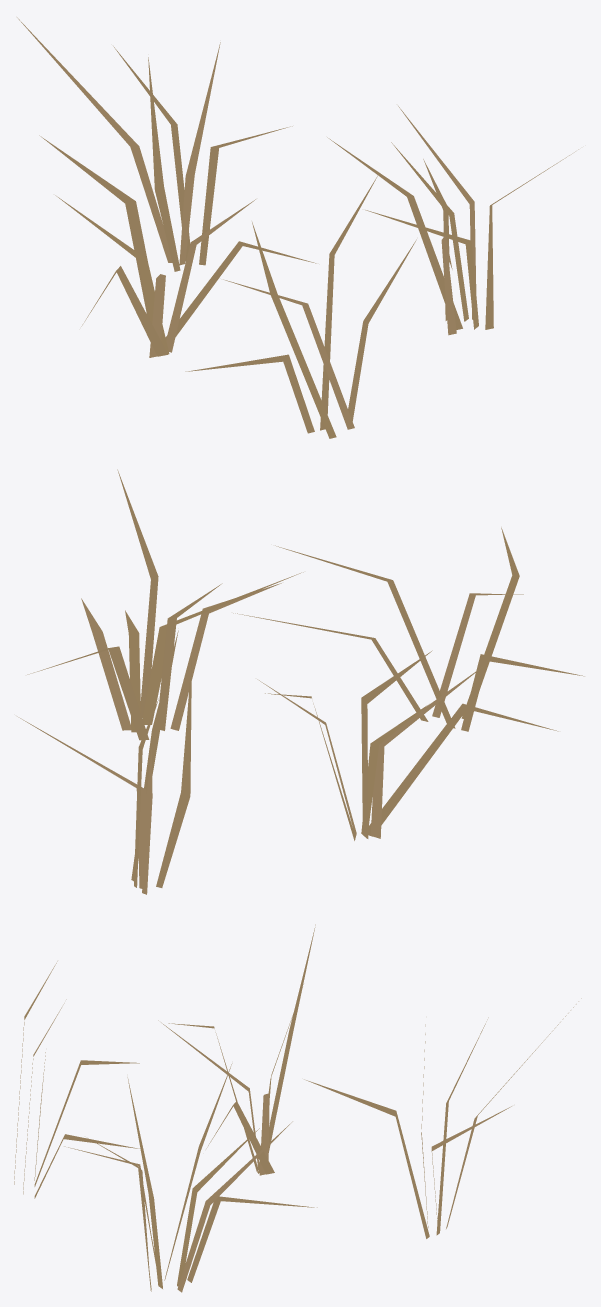
Rendered from Grass_h_TwoS_06.fbx.
3 renders of one model, top to bottom at view 1: azimuth 30°, elevation 25°; view 2: azimuth 150°, elevation 25°; view 3: azimuth 270°, elevation 25°, orthographic. The views are drawn at different scales.
Parts seen in each view (by area): view 1: Grass_h_TwoS_06; view 2: Grass_h_TwoS_06; view 3: Grass_h_TwoS_06.
Part boxes in pixels (x1,y1,x2,y2): Grass_h_TwoS_06: (17,17,578,438); Grass_h_TwoS_06: (17,469,584,894); Grass_h_TwoS_06: (14,924,581,1292).
Bounding box in the file's own units: 0.9117 × 0.4301 × 1.05.
